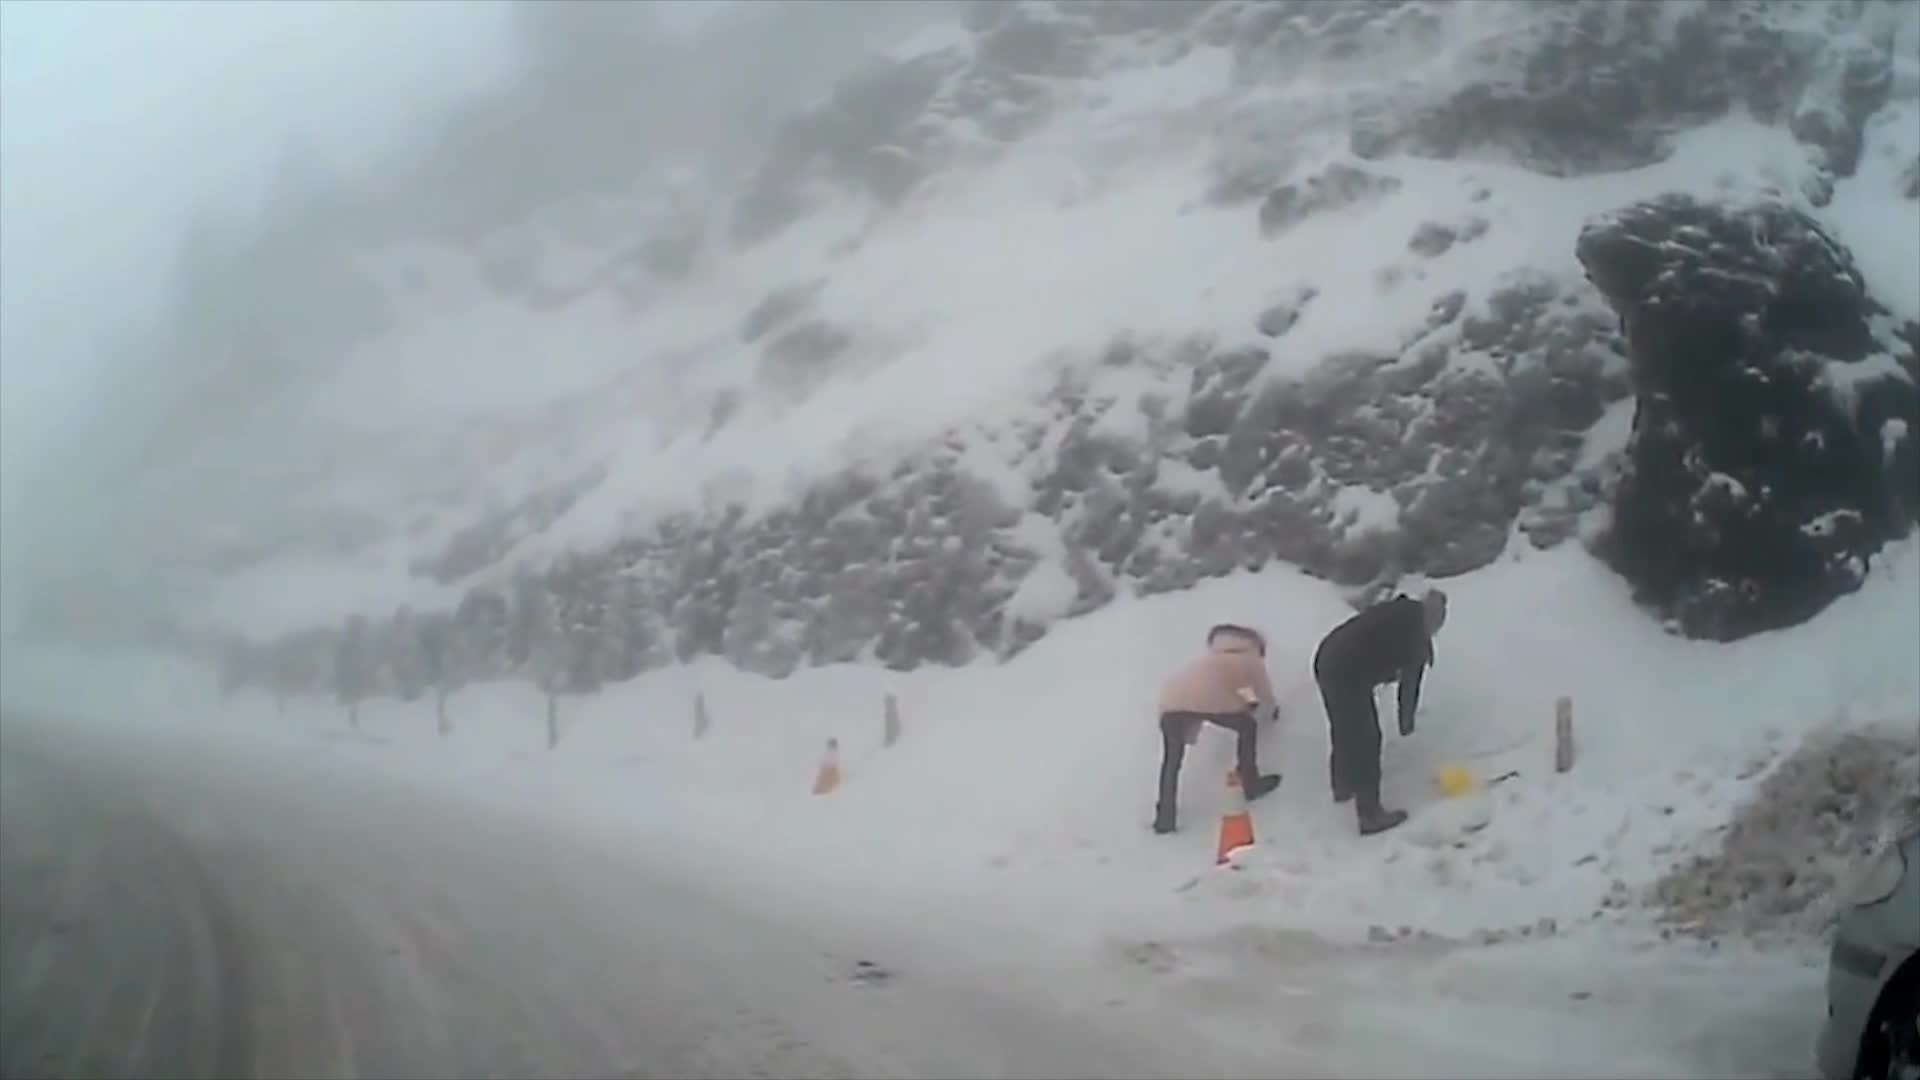pedestrian: (1318, 587, 1452, 830), (1155, 611, 1288, 837)
vehicle: (1812, 830, 1920, 1080)
